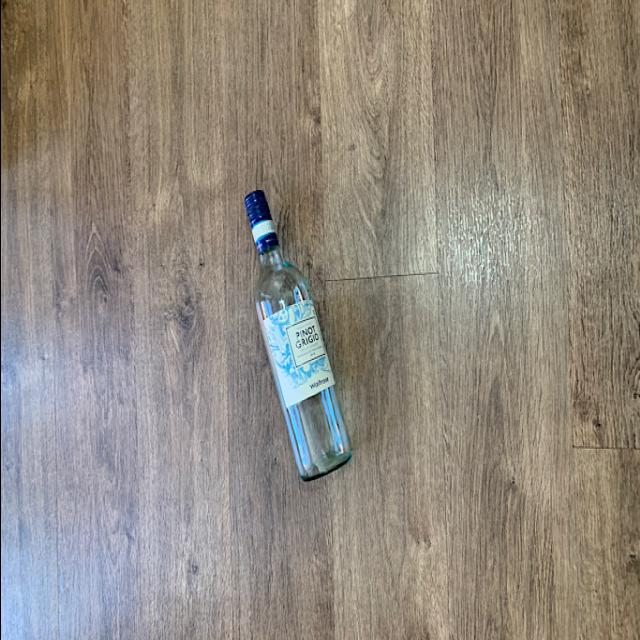litter: (240, 180, 354, 498)
